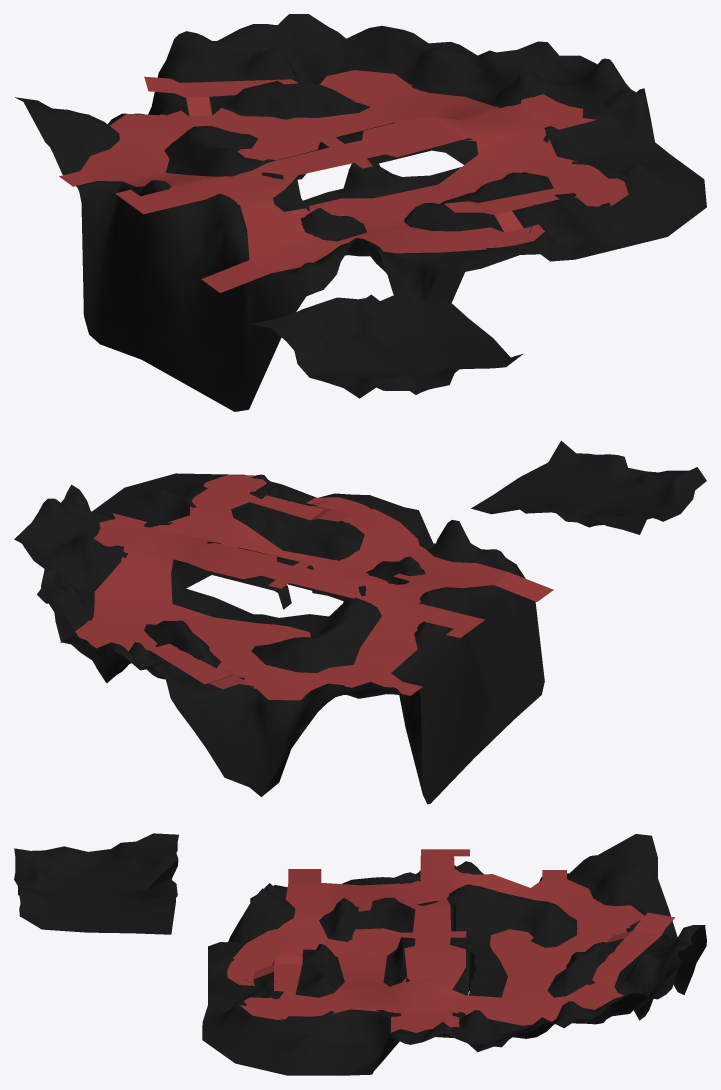
File: f_2105_floor_t4m.FBX
The picture shows the model from 3 angles, top to bottom: view 1: azimuth 30°, elevation 25°; view 2: azimuth 150°, elevation 25°; view 3: azimuth 270°, elevation 25°; orthographic projection. The views are drawn at different scales.
Parts seen in each view (by area): view 1: Unity_terrain002, Unity_terrain, Unity_terrain003; view 2: Unity_terrain002, Unity_terrain, Unity_terrain003; view 3: Unity_terrain002, Unity_terrain, Unity_terrain003.
Part boxes in pixels (x1=…): Unity_terrain002: x1=15, y1=14, x2=706, y2=411; Unity_terrain: x1=59, y1=70, x2=628, y2=292; Unity_terrain003: x1=251, y1=294, x2=523, y2=398; Unity_terrain002: x1=14, y1=473, x2=544, y2=804; Unity_terrain: x1=75, y1=475, x2=553, y2=700; Unity_terrain003: x1=471, y1=440, x2=706, y2=534; Unity_terrain002: x1=202, y1=834, x2=706, y2=1075; Unity_terrain: x1=227, y1=849, x2=675, y2=1032; Unity_terrain003: x1=14, y1=833, x2=178, y2=934.
Bounding box in the file's own units: 37799 × 14059 × 50850.
